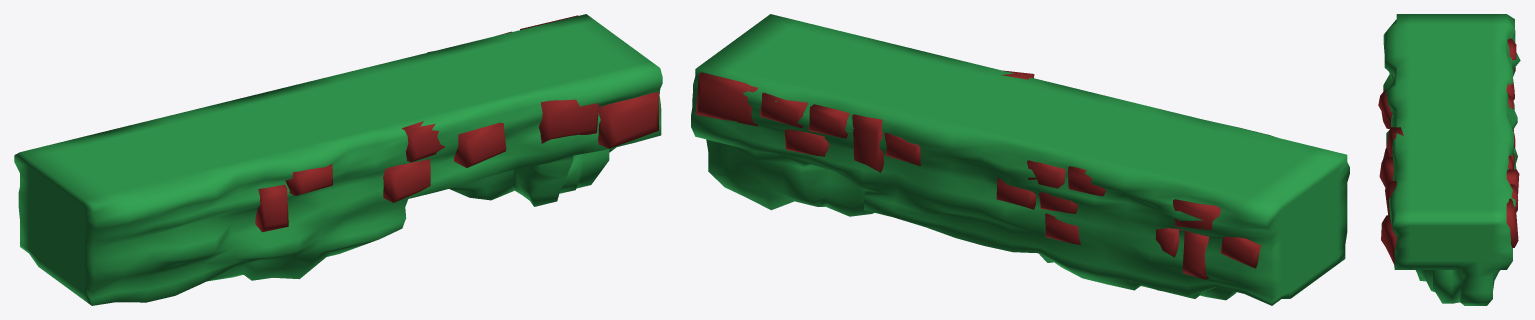
The model's file is Ruins_Ground_1.FBX.
3 renders of one model, left to right at view 1: azimuth 30°, elevation 25°; view 2: azimuth 150°, elevation 25°; view 3: azimuth 270°, elevation 25°, orthographic. The views are drawn at different scales.
Parts seen in each view (by area): view 1: Box001, Box002; view 2: Box001, Box002; view 3: Box001, Box002.
Boxes of the visible parts, bbox=[...] form: Box001: bbox=[14, 14, 662, 305]; Box002: bbox=[255, 15, 658, 232]; Box001: bbox=[691, 14, 1349, 305]; Box002: bbox=[695, 70, 1261, 279]; Box001: bbox=[1383, 14, 1520, 305]; Box002: bbox=[1378, 38, 1519, 264].
Bounding box in the file's own units: 85 × 19.47 × 24.78.
